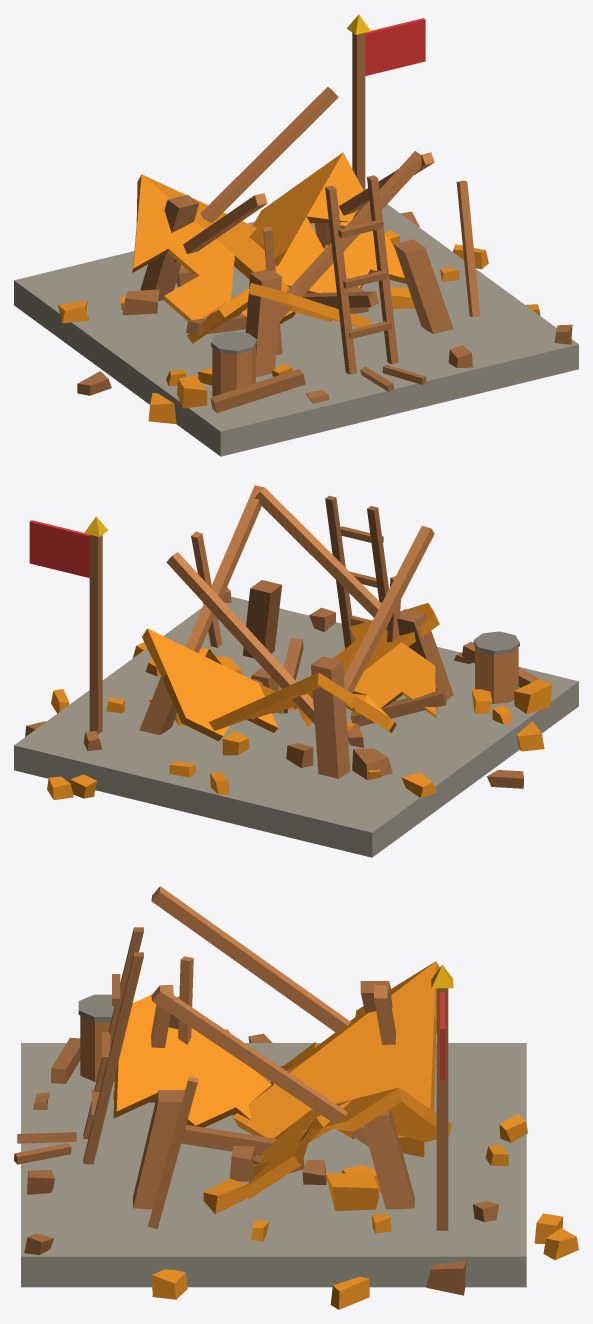
The model's file is defense_tower_t1_v1_dmg2.glb.
The picture shows the model from 3 angles, top to bottom: view 1: azimuth 30°, elevation 25°; view 2: azimuth 150°, elevation 25°; view 3: azimuth 270°, elevation 25°; orthographic projection. The views are drawn at different scales.
Visible parts, largest first — view 1: defense_tower_t1_v1_dmg2; view 2: defense_tower_t1_v1_dmg2; view 3: defense_tower_t1_v1_dmg2.
Boxes of the visible parts, bbox=[...] form: defense_tower_t1_v1_dmg2: bbox=[14, 14, 578, 456]; defense_tower_t1_v1_dmg2: bbox=[14, 485, 578, 857]; defense_tower_t1_v1_dmg2: bbox=[14, 886, 578, 1309].
Bounding box in the file's own units: 0.741 × 0.385 × 0.6702.
1 material, 1 textured.
